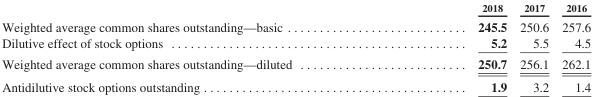table: (1, 1, 590, 93)
table column: (1, 1, 384, 93), (384, 1, 512, 93), (512, 1, 554, 93), (554, 1, 590, 93)
table column header: (1, 1, 590, 16)
table row: (1, 52, 590, 74), (1, 74, 590, 93), (1, 16, 590, 34), (1, 34, 590, 52), (1, 1, 590, 16)
